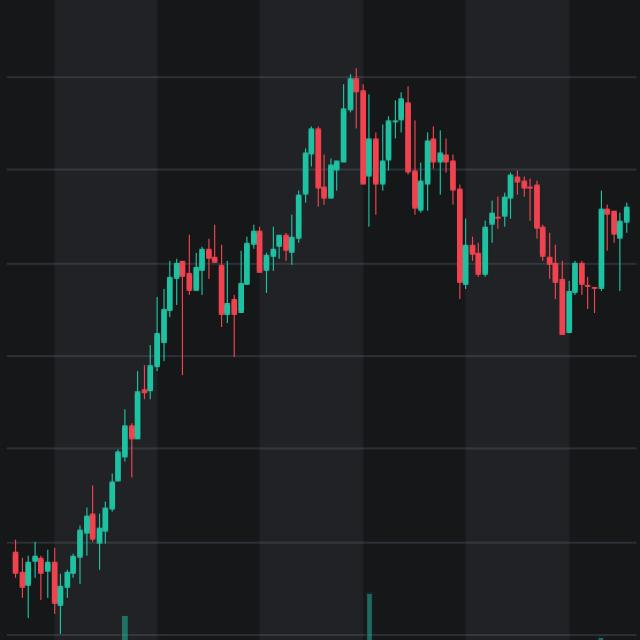Resistance-breakout: (7, 211, 222, 613)
Rounding-Top: (292, 56, 468, 270)
